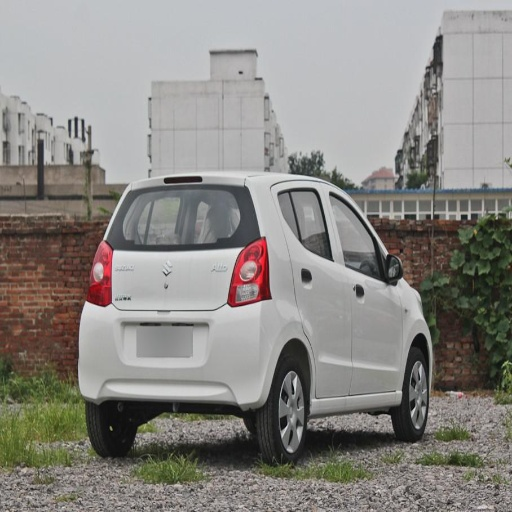back_bumper: (81, 300, 282, 406)
back_right_door: (281, 186, 352, 398)
trunk: (99, 249, 243, 364)
